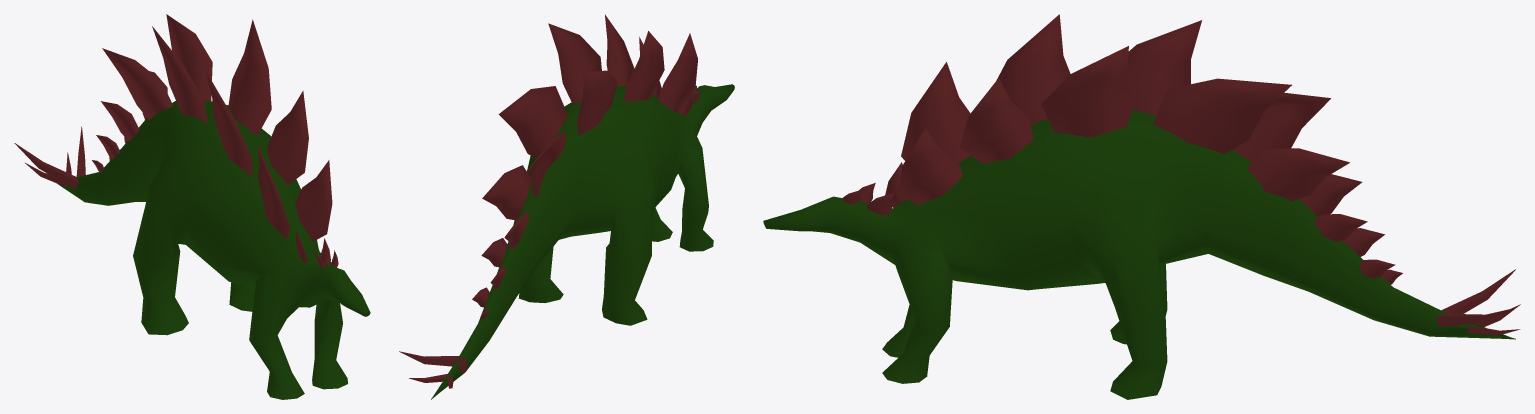
Rendered from Dino.gltf.
The picture shows the model from 3 angles, left to right: view 1: azimuth 30°, elevation 25°; view 2: azimuth 150°, elevation 25°; view 3: azimuth 270°, elevation 25°; orthographic projection. The views are drawn at different scales.
Visible parts, largest first — view 1: DinoBody; view 2: DinoBody; view 3: DinoBody.
Part boxes in pixels (x1,y1,x2,y2): DinoBody: (14,14,370,399); DinoBody: (399,14,734,399); DinoBody: (763,14,1520,399).
Bounding box in the file's own units: 1.69 × 3.28 × 6.61.
Materials: 1 (1 with a texture image).
